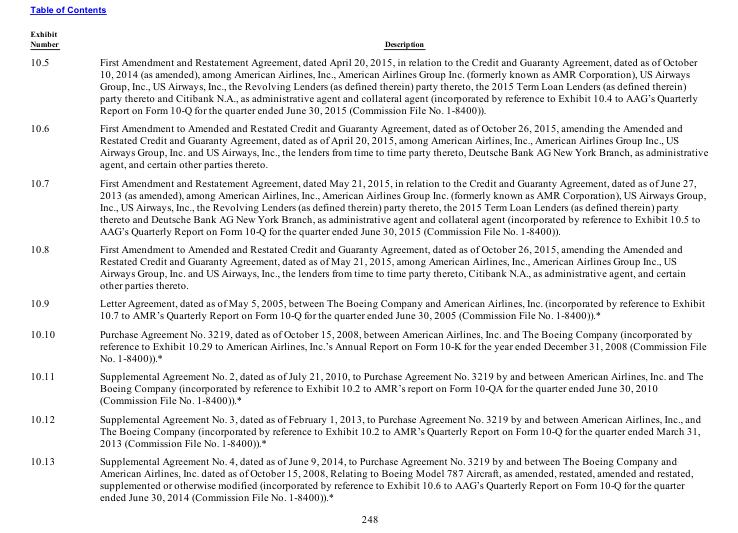table: (29, 29, 707, 502)
table column: (78, 29, 707, 502), (29, 29, 78, 502)
table column header: (29, 29, 707, 51)
table row: (29, 51, 707, 118), (29, 173, 707, 239), (29, 118, 707, 173), (29, 239, 707, 293), (29, 451, 707, 502), (29, 408, 707, 451), (29, 324, 707, 366), (29, 366, 707, 408), (29, 293, 707, 324), (29, 29, 707, 51)
